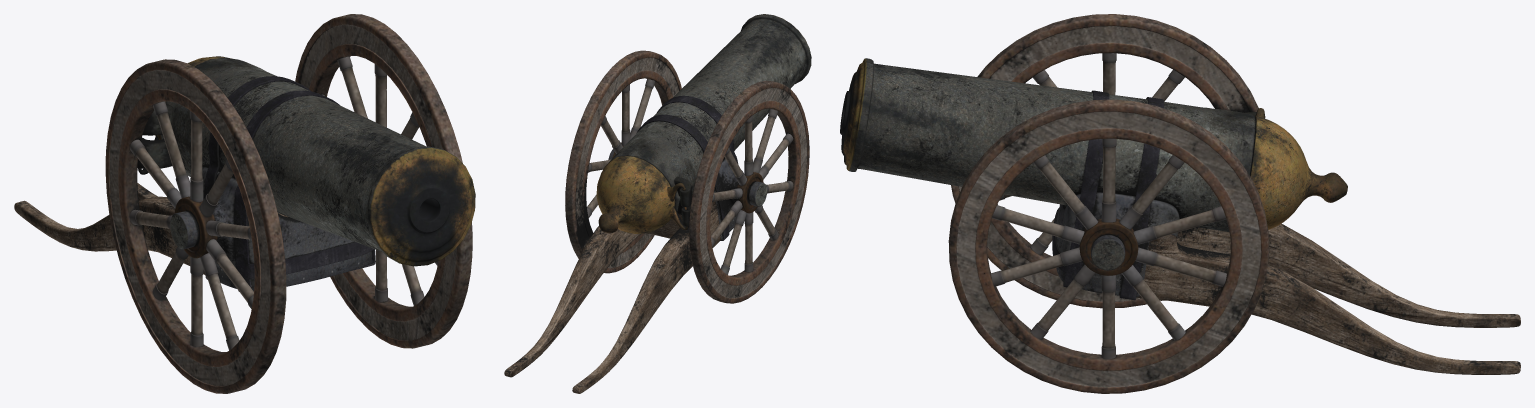
The model's file is Cannon.fbx.
3 views of the same model, side by side, from view 1: azimuth 30°, elevation 25°; view 2: azimuth 150°, elevation 25°; view 3: azimuth 270°, elevation 25° (orthographic). The views are drawn at different scales.
Parts seen in each view (by area): view 1: Cannon.Shape; view 2: Cannon.Shape; view 3: Cannon.Shape.
Part boxes in pixels (x1,y1,x2,y2): Cannon.Shape: (14, 14, 475, 393); Cannon.Shape: (504, 14, 811, 393); Cannon.Shape: (840, 14, 1520, 393).
Size of the model in its own units: 94.69 by 126 by 268.
